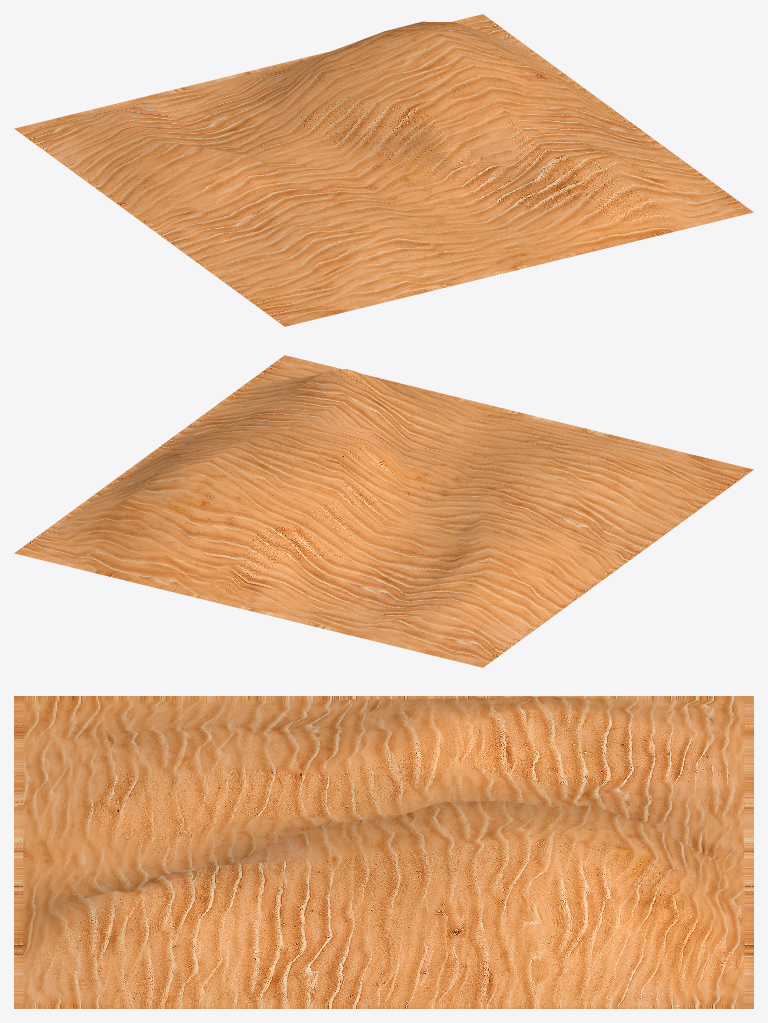
File: SandDunes1x1_2.glb
The picture shows the model from 3 angles, top to bottom: view 1: azimuth 30°, elevation 25°; view 2: azimuth 150°, elevation 25°; view 3: azimuth 270°, elevation 25°; orthographic projection. The views are drawn at different scales.
Visible parts, largest first — view 1: SandDunes1x1_2; view 2: SandDunes1x1_2; view 3: SandDunes1x1_2.
Boxes of the visible parts, box(x1,y1,x2,y2) form: SandDunes1x1_2: box(14, 14, 753, 326); SandDunes1x1_2: box(14, 355, 753, 667); SandDunes1x1_2: box(14, 696, 753, 1008).
Bounding box in the file's own units: 160 × 21.42 × 160.
1 material, 1 textured.
